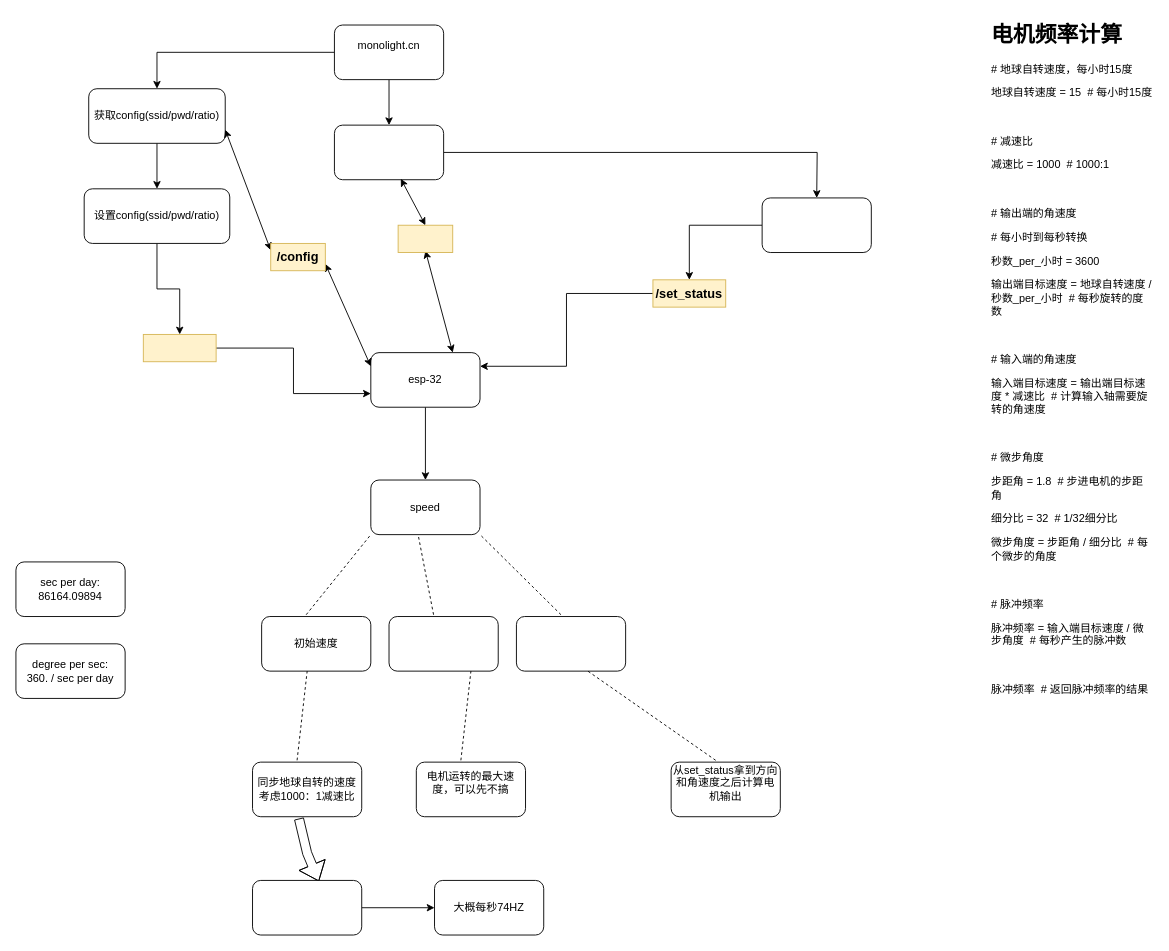
Image size: 1169x951. Some labels were removed from this diagram. Here are the shapes that lost their labels. From the top down, the centre of each, then its label:
At point (389, 152): "主页面参数 direction、speed".
At point (425, 238): "/status".
At point (816, 225): "设置页面参数 direciton、speed".
At point (179, 348): "/set_config".
At point (443, 643): "最大速度".
At point (571, 643): "自定义速度".
At point (307, 907): "degree per second / 1000".
